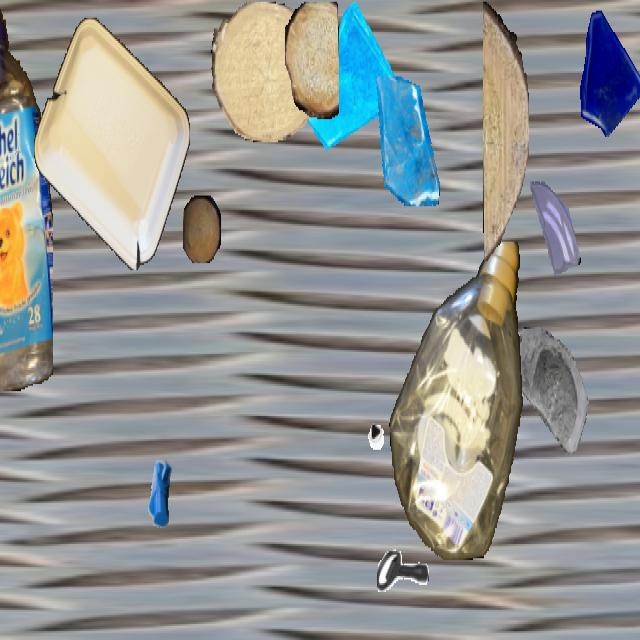glass: (308, 2, 398, 162), (517, 323, 601, 473), (571, 2, 640, 137), (370, 76, 442, 205), (525, 180, 583, 282)
metal: (331, 354, 389, 457), (130, 438, 188, 540), (377, 528, 429, 620), (0, 174, 41, 281)
plastic: (389, 242, 525, 558), (34, 18, 190, 270), (0, 2, 52, 389)
wood: (211, 2, 317, 140), (483, 2, 529, 261), (285, 2, 339, 119), (183, 196, 221, 263)
